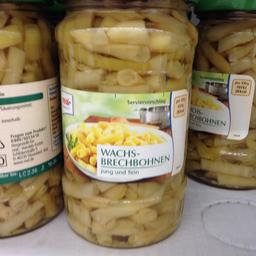beans: (55, 0, 190, 246), (192, 2, 255, 196), (0, 0, 51, 237)
